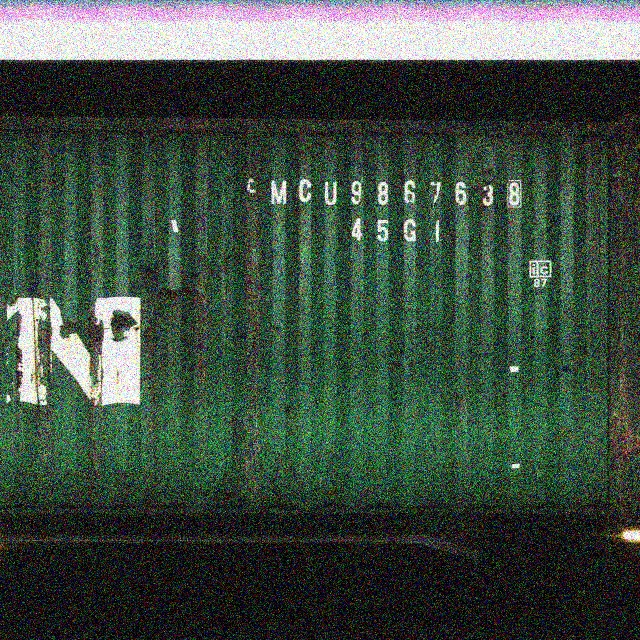Rusty: (243, 147, 261, 463), (12, 327, 58, 413), (609, 347, 639, 463), (186, 251, 212, 381), (64, 311, 133, 348), (142, 258, 180, 325), (607, 137, 634, 209)
